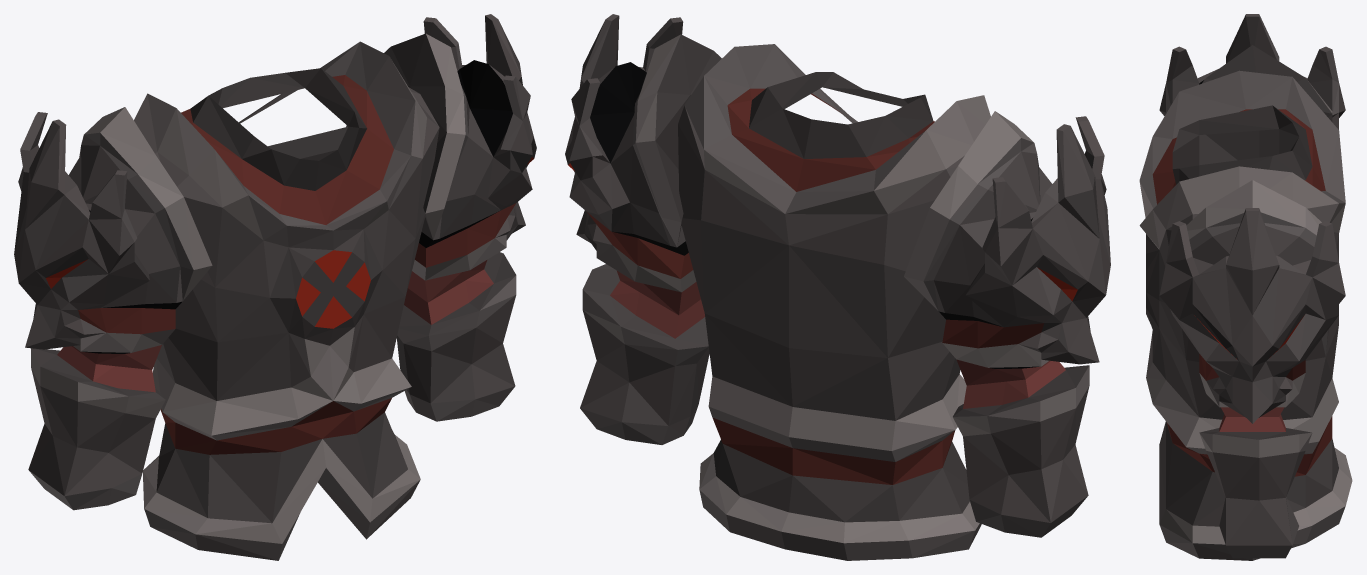
The model's file is player_sanguine_torva_platebody.glb.
3 views of the same model, side by side, from view 1: azimuth 30°, elevation 25°; view 2: azimuth 150°, elevation 25°; view 3: azimuth 270°, elevation 25° (orthographic). The views are drawn at different scales.
Size of the model in its own units: 81.99 by 68.01 by 32.
Materials: 1 (1 with a texture image).
